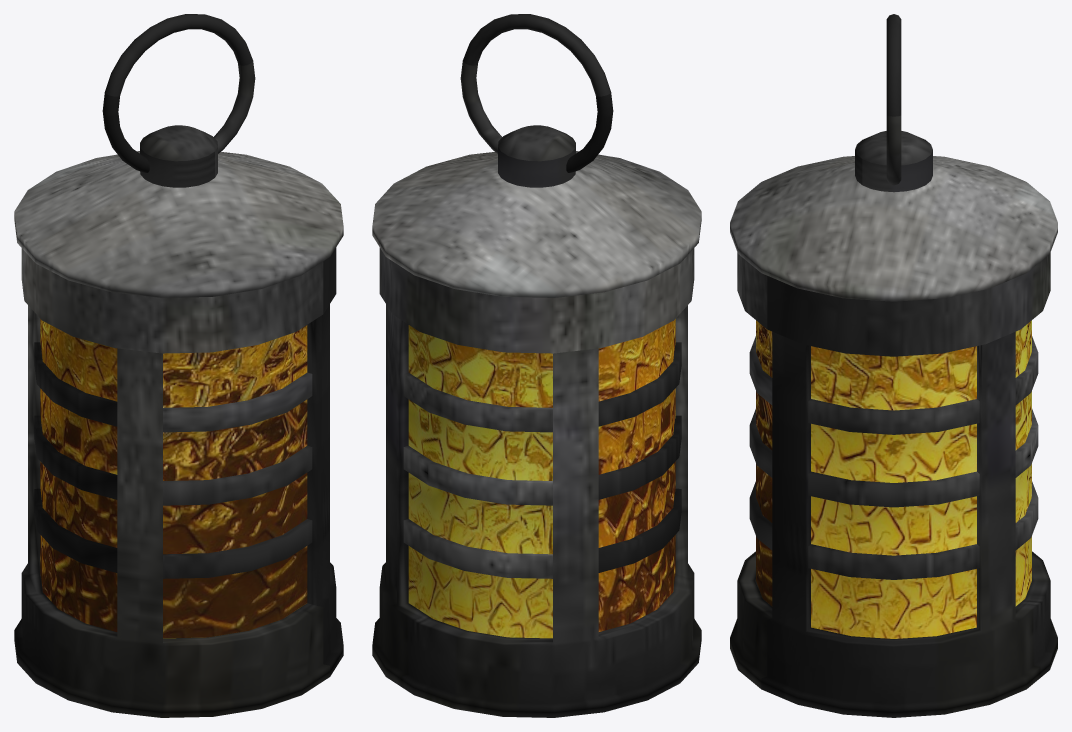
Rendered from gasLamp.FBX.
3 renders of one model, left to right at view 1: azimuth 30°, elevation 25°; view 2: azimuth 150°, elevation 25°; view 3: azimuth 270°, elevation 25°, orthographic.
Visible parts, largest first — view 1: Lantern_low_ncl1_1, Lanter_Handle_low; view 2: Lantern_low_ncl1_1, Lanter_Handle_low; view 3: Lantern_low_ncl1_1, Lanter_Handle_low.
Boxes of the visible parts, <box> form: Lantern_low_ncl1_1: <box>14,125,343,717</box>; Lanter_Handle_low: <box>102,14,255,172</box>; Lantern_low_ncl1_1: <box>372,125,701,717</box>; Lanter_Handle_low: <box>460,14,613,172</box>; Lantern_low_ncl1_1: <box>730,131,1057,717</box>; Lanter_Handle_low: <box>886,14,901,185</box>.
Size of the model in its own units: 18.46 by 38.89 by 18.46.
Materials: 2 (2 with a texture image).
